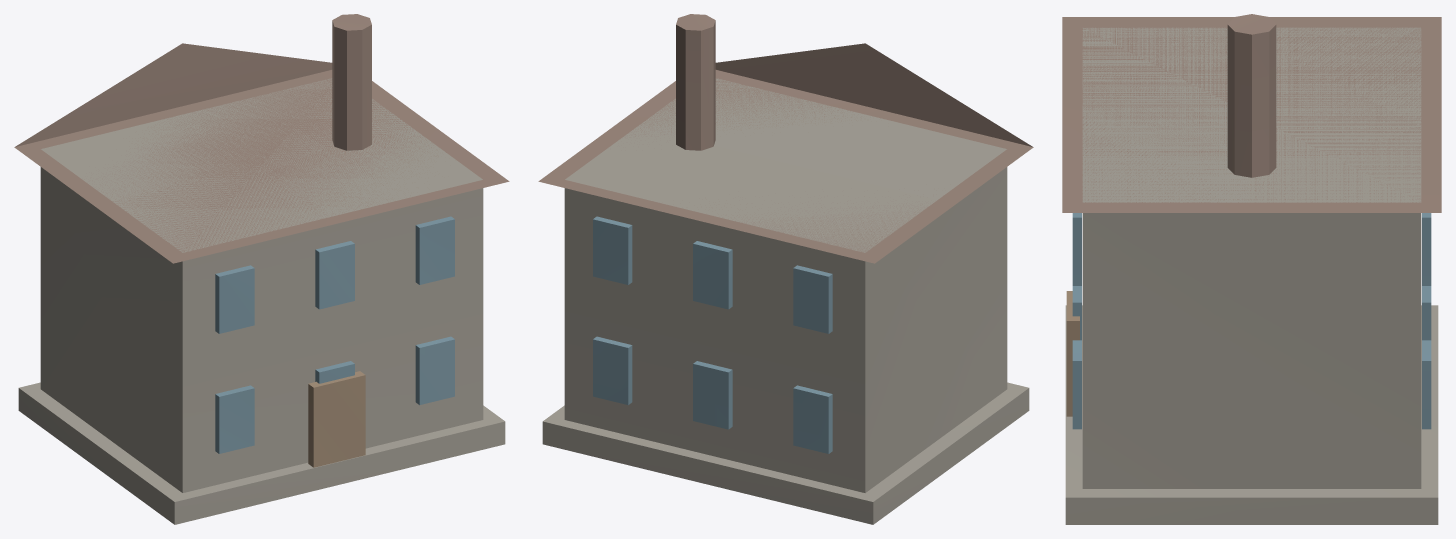
The model's file is barn-00.glb.
The picture shows the model from 3 angles, left to right: view 1: azimuth 30°, elevation 25°; view 2: azimuth 150°, elevation 25°; view 3: azimuth 270°, elevation 25°; orthographic projection. The views are drawn at different scales.
Parts seen in each view (by area): view 1: world; view 2: world; view 3: world.
Boxes of the visible parts, x1,y1,x2,y2 form: world: (14, 14, 509, 524); world: (538, 14, 1033, 524); world: (1062, 14, 1441, 524).
Bounding box in the file's own units: 1.23 × 1.34 × 1.01.
